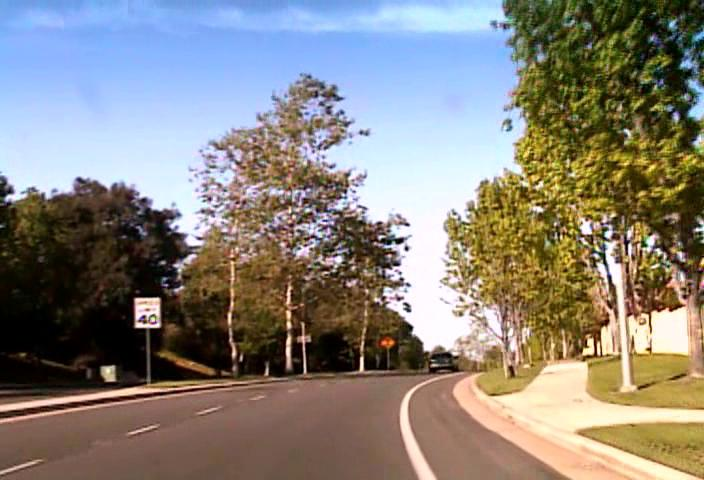speedLimit40: (133, 296, 161, 328)
